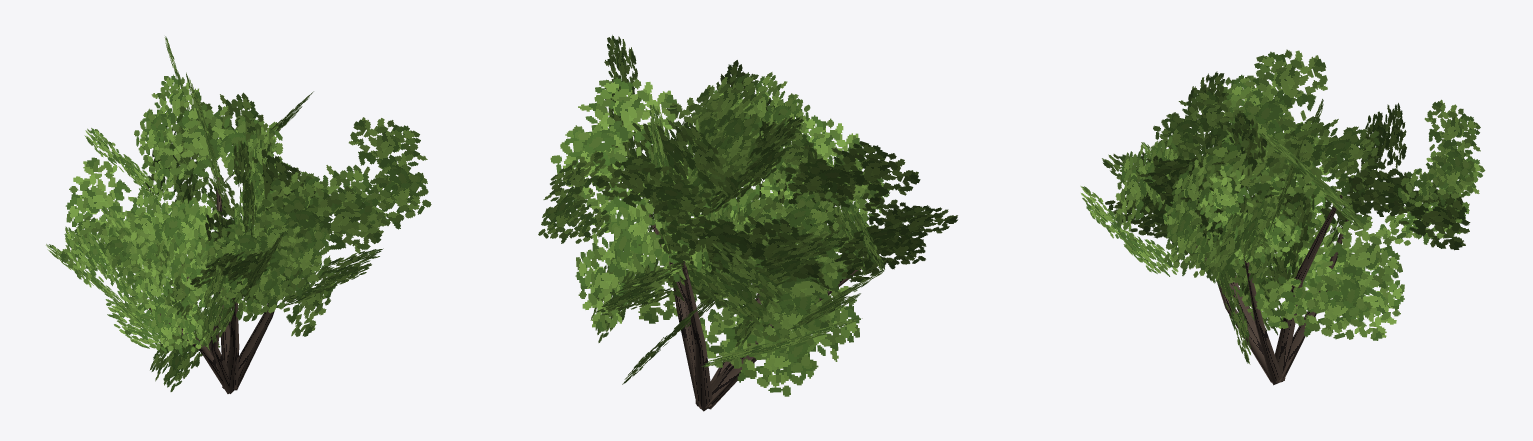
Rendered from flora_bush.glb.
3 renders of one model, left to right at view 1: azimuth 30°, elevation 25°; view 2: azimuth 150°, elevation 25°; view 3: azimuth 270°, elevation 25°, orthographic. The views are drawn at different scales.
Visible parts, largest first — view 1: flora_bush; view 2: flora_bush; view 3: flora_bush.
Boxes of the visible parts, x1,y1,x2,y2 form: flora_bush: (46, 36, 431, 393); flora_bush: (538, 35, 957, 411); flora_bush: (1080, 49, 1485, 385).
Size of the model in its own units: 2.35 by 1.96 by 2.34.
Materials: 2 (2 with a texture image).
